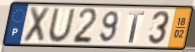2: (72, 7, 99, 45)
3: (146, 10, 170, 46)
9: (98, 9, 122, 44)
T: (127, 11, 146, 45)
U: (47, 8, 77, 44)
X: (21, 5, 52, 44)
